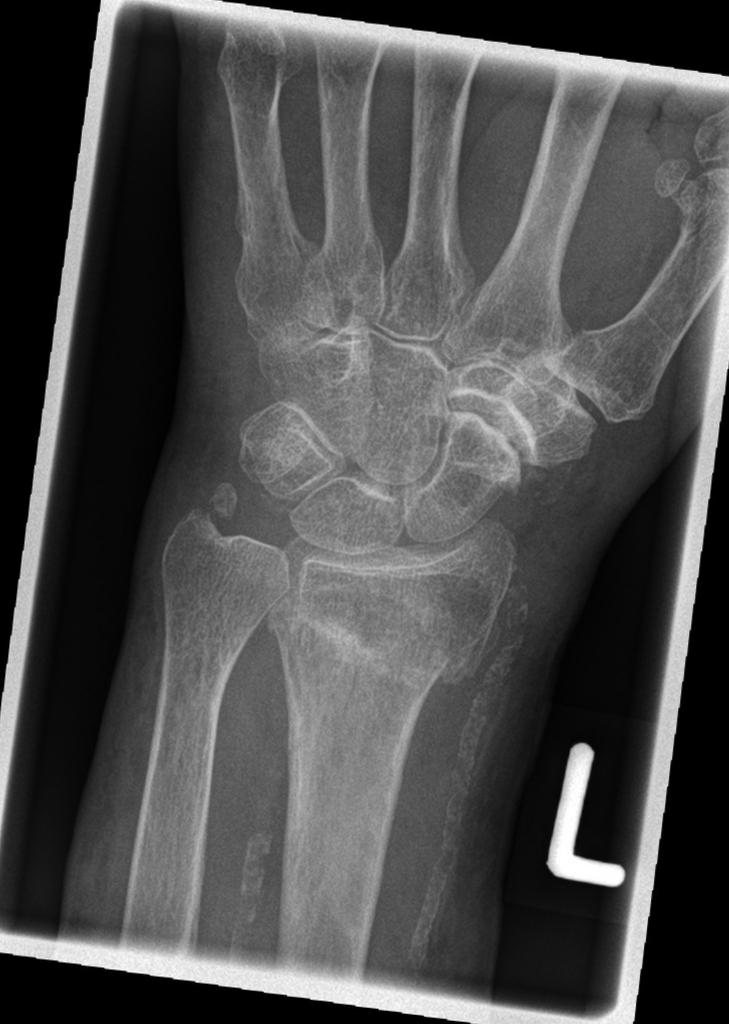line: (264, 600, 432, 692)
